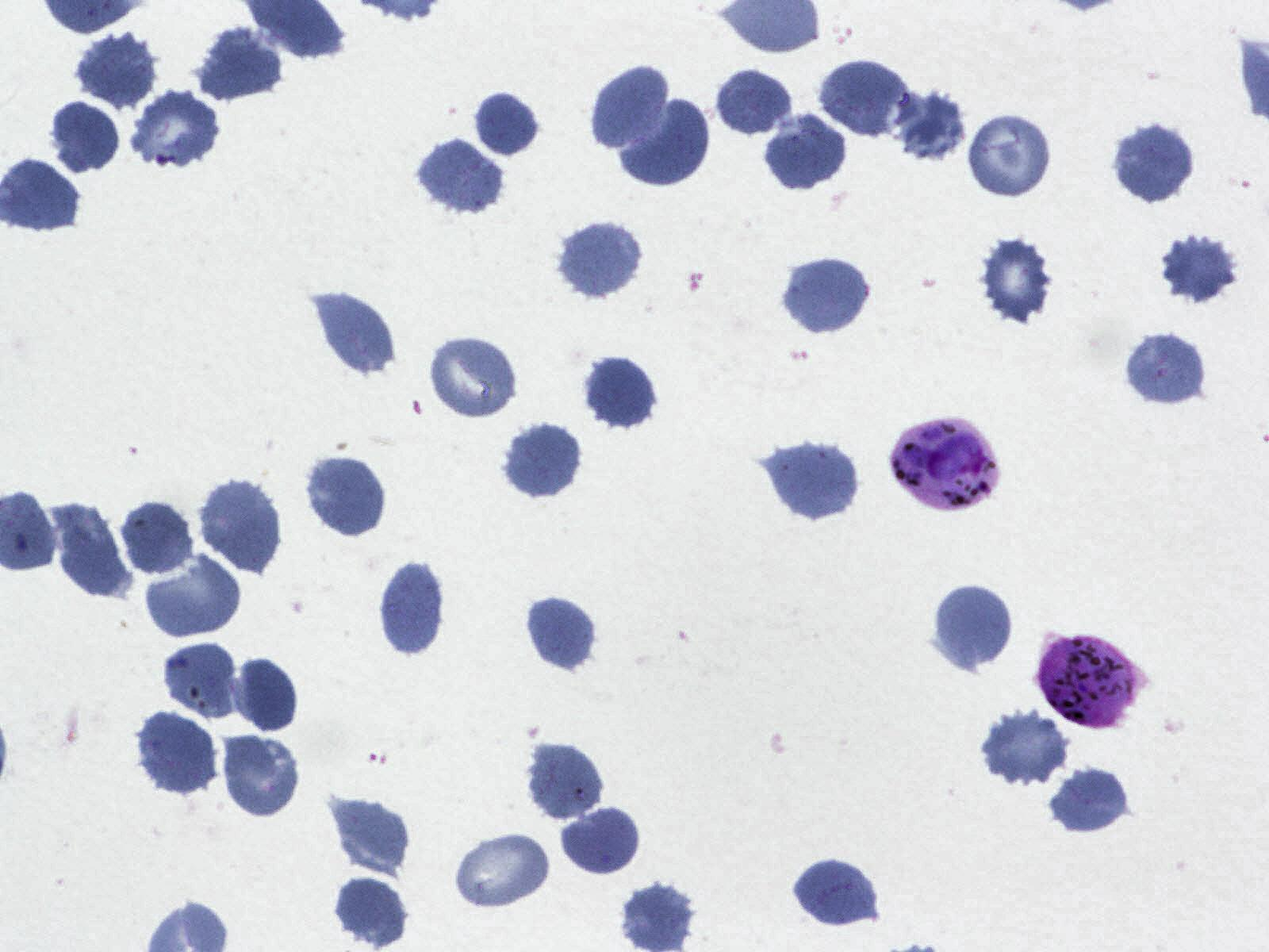Infected: (888, 416, 998, 513), (1036, 633, 1139, 731)
Uninfected: (141, 549, 243, 641), (615, 96, 714, 190), (196, 476, 284, 578), (427, 333, 523, 424), (762, 437, 858, 523), (130, 86, 223, 174), (967, 108, 1053, 201), (589, 61, 674, 155), (455, 829, 552, 911), (313, 286, 399, 378), (374, 555, 450, 659), (932, 581, 1016, 674), (815, 57, 908, 141), (781, 254, 874, 337), (56, 501, 130, 605), (303, 454, 389, 542), (416, 134, 508, 216), (220, 729, 301, 822), (133, 709, 218, 797), (555, 216, 642, 301), (762, 108, 849, 192), (523, 740, 607, 827), (980, 707, 1070, 788), (1113, 119, 1196, 205), (325, 795, 412, 876), (977, 234, 1056, 323), (73, 27, 157, 110), (196, 27, 286, 104), (791, 855, 880, 931), (1125, 330, 1206, 409), (556, 800, 637, 878), (505, 421, 584, 499), (1160, 228, 1240, 305), (523, 593, 599, 674), (162, 643, 240, 720), (888, 87, 966, 163), (119, 499, 196, 575), (584, 353, 658, 432), (335, 873, 409, 951), (228, 654, 299, 735), (715, 67, 793, 140), (49, 99, 121, 177), (1050, 766, 1130, 836), (618, 881, 696, 952), (473, 89, 542, 160)
